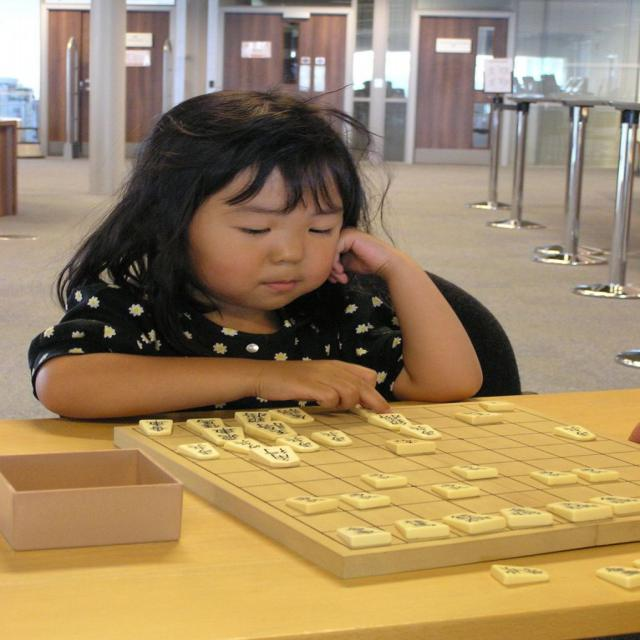Box: (18, 456, 185, 549)
